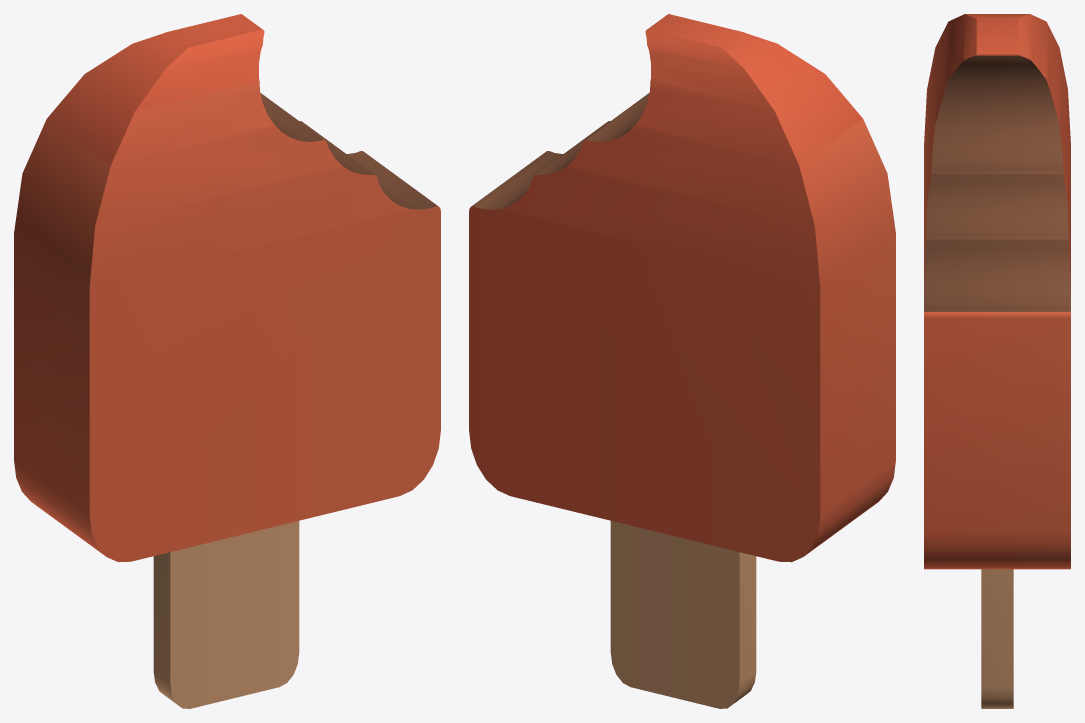
Rendered from IceCream.fbx.
3 views of the same model, side by side, from view 1: azimuth 30°, elevation 25°; view 2: azimuth 150°, elevation 25°; view 3: azimuth 270°, elevation 25° (orthographic). The views are drawn at different scales.
Visible parts, largest first — view 1: Body, Holder; view 2: Body, Holder; view 3: Body, Holder.
Boxes of the visible parts, bbox=[...] form: Body: bbox=[14, 14, 440, 562]; Holder: bbox=[153, 521, 299, 708]; Body: bbox=[469, 14, 895, 562]; Holder: bbox=[610, 521, 756, 708]; Body: bbox=[924, 14, 1070, 569]; Holder: bbox=[981, 569, 1013, 708].
Size of the model in its own units: 0.2303 by 0.416 by 0.0858.
Materials: 1 (1 with a texture image).
